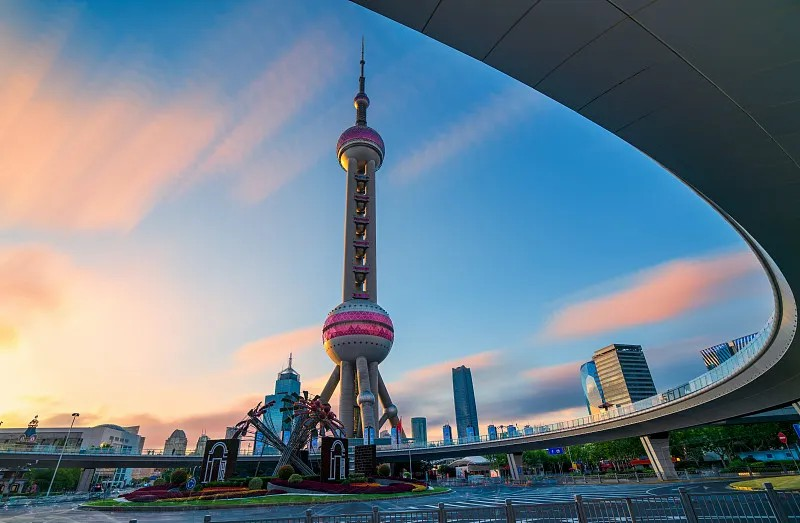Oriental: (323, 36, 401, 438)
